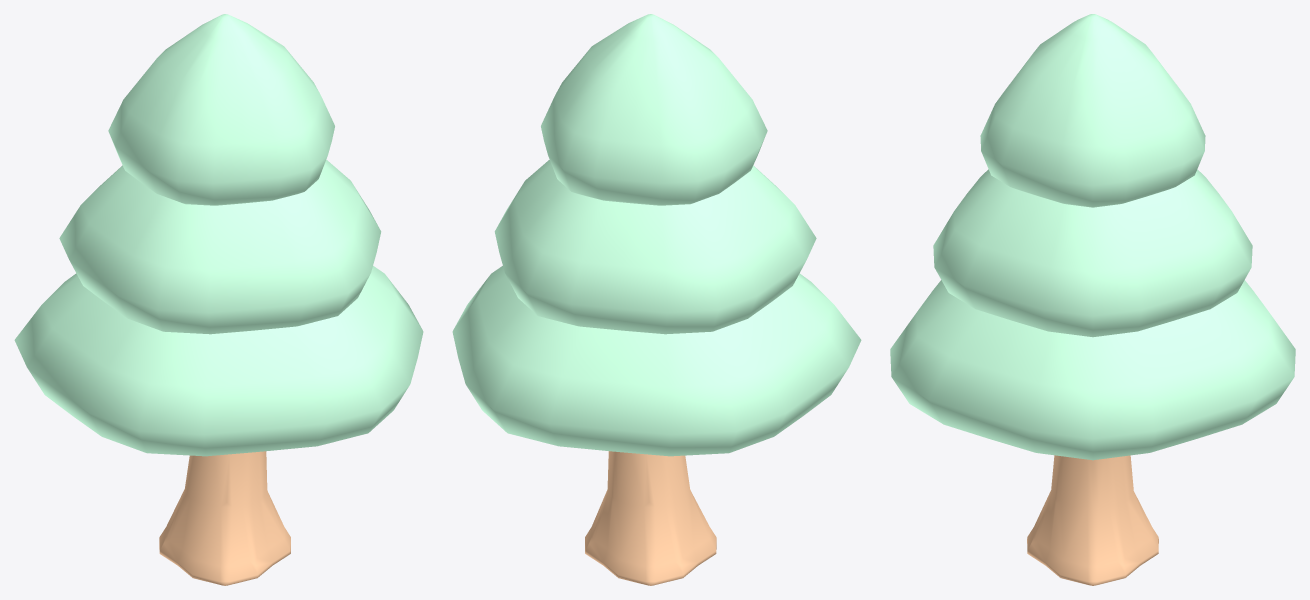
Rendered from tree-pine.glb.
The picture shows the model from 3 angles, left to right: view 1: azimuth 30°, elevation 25°; view 2: azimuth 150°, elevation 25°; view 3: azimuth 270°, elevation 25°; orthographic projection.
Visible parts, largest first — view 1: tree-pine; view 2: tree-pine; view 3: tree-pine.
Part boxes in pixels (left/top/right/bottom): tree-pine: left=14, top=14, right=423, bottom=585; tree-pine: left=452, top=14, right=861, bottom=585; tree-pine: left=890, top=14, right=1295, bottom=585.
Bounding box in the file's own units: 3.1 × 4.55 × 3.1.
